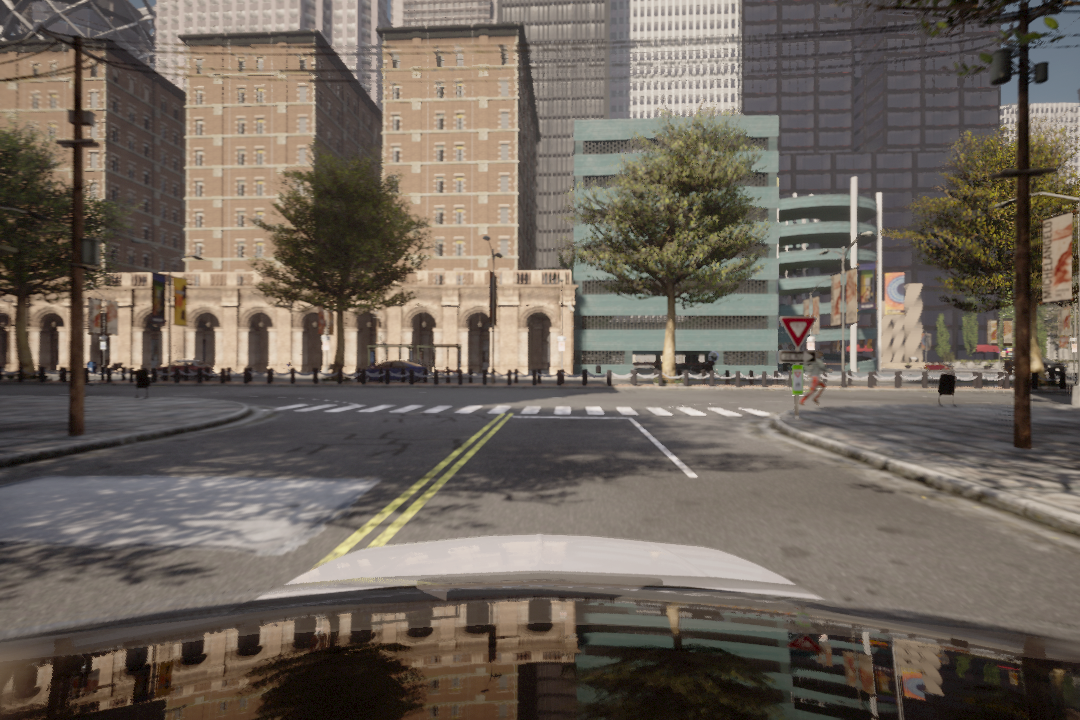walkside: (254, 398, 767, 424)
